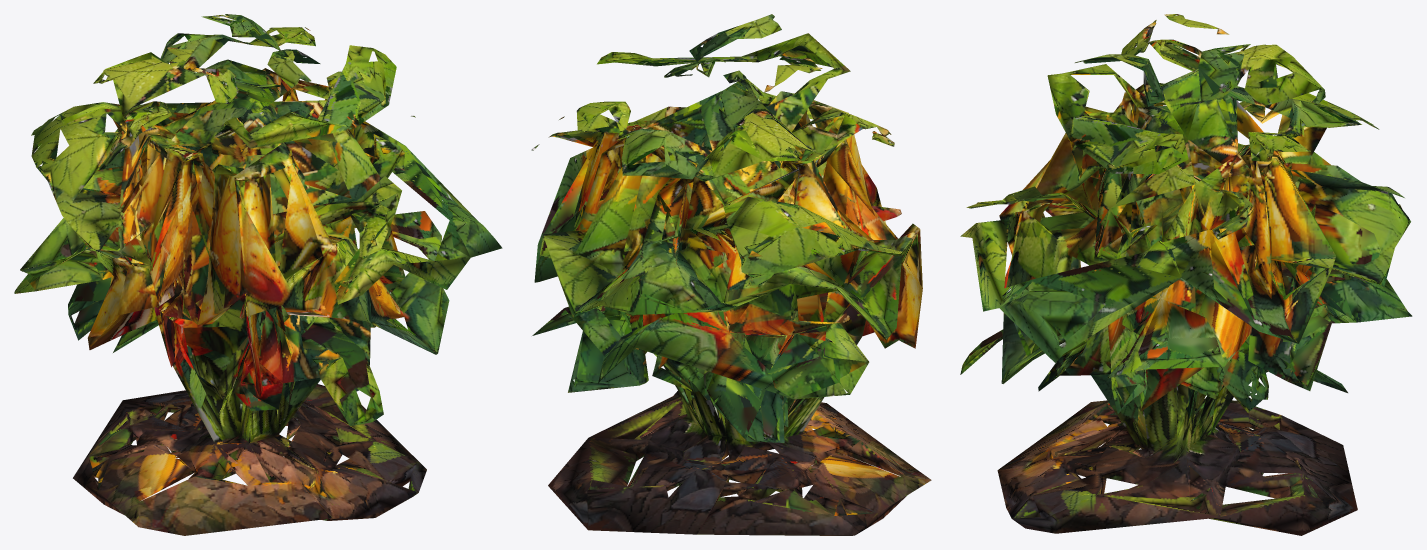
Rendered from Crop_KidneyBean_Ready.fbx.
3 renders of one model, left to right at view 1: azimuth 30°, elevation 25°; view 2: azimuth 150°, elevation 25°; view 3: azimuth 270°, elevation 25°, orthographic. The views are drawn at different scales.
Parts seen in each view (by area): view 1: texture_mapping; view 2: texture_mapping; view 3: texture_mapping.
Part boxes in pixels (x1,y1,x2,y2): texture_mapping: (14, 14, 502, 535); texture_mapping: (531, 14, 931, 535); texture_mapping: (960, 14, 1412, 535).
Size of the model in its own units: 0.8954 by 0.8945 by 0.9572.
Materials: 1 (1 with a texture image).
